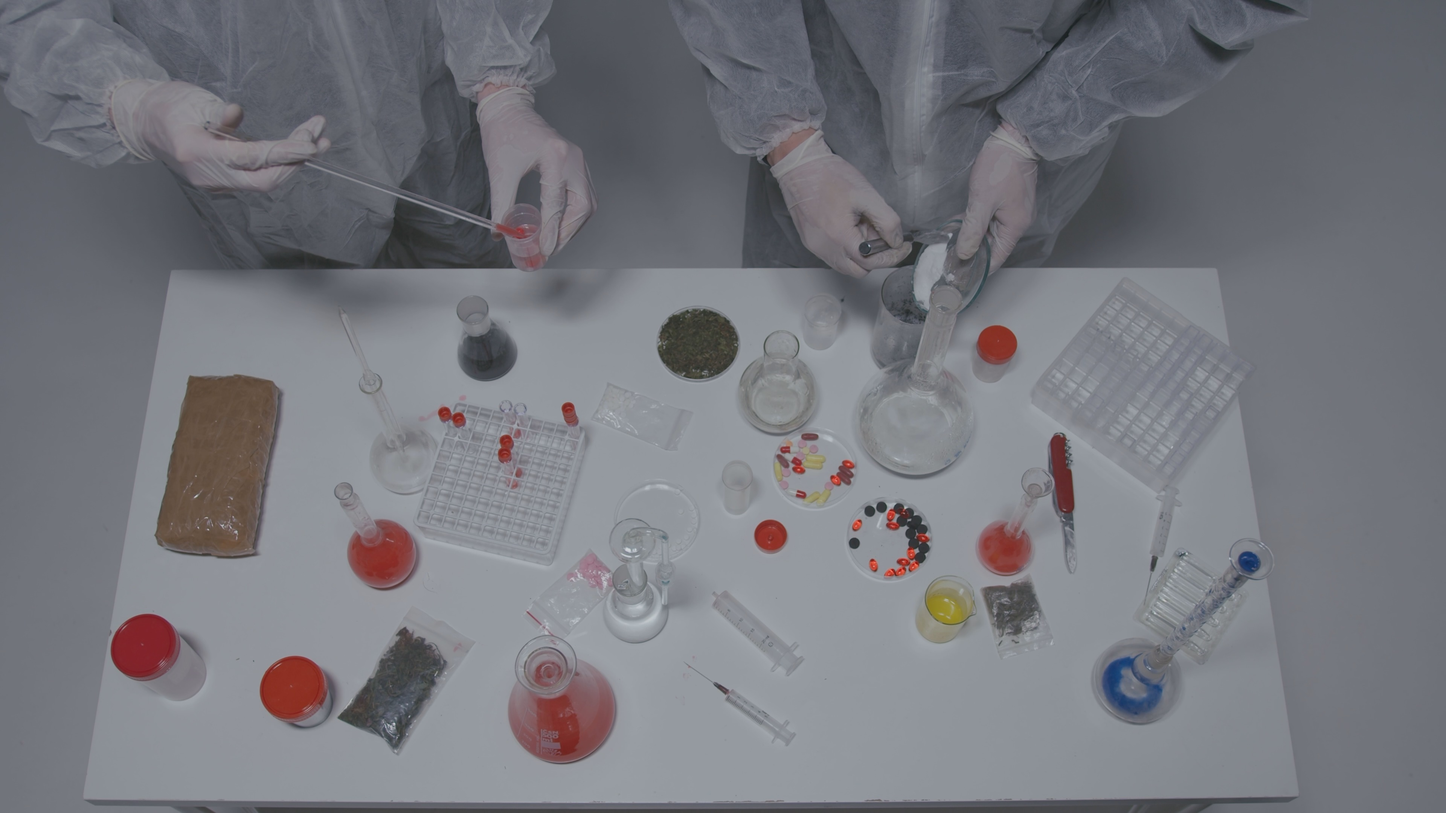gloves: (737, 115, 933, 304), (102, 58, 339, 209), (440, 63, 614, 266), (939, 119, 1058, 297)
